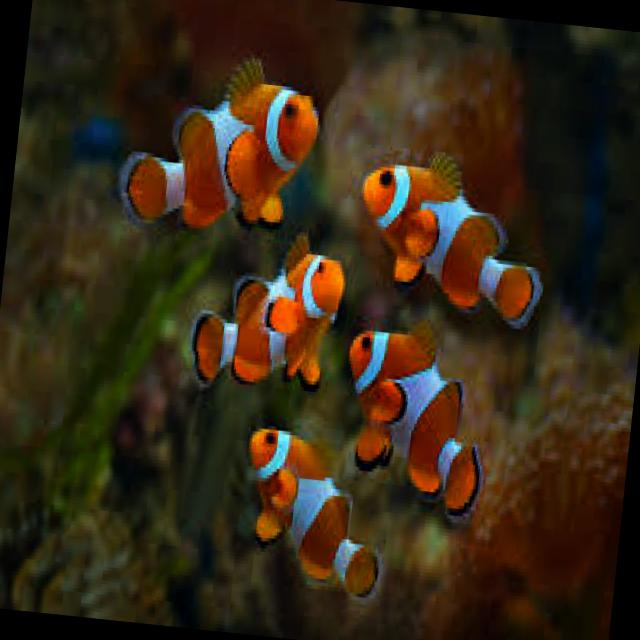ClownFish: (114, 46, 324, 248), (349, 143, 556, 329), (333, 314, 497, 522), (233, 423, 392, 604), (189, 224, 348, 397)
